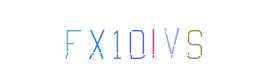1: (95, 0, 175, 80)
D: (97, 0, 177, 80)
F: (50, 0, 130, 80)
I: (104, 0, 184, 80)
S: (154, 0, 234, 80)
V: (113, 0, 193, 80)
X: (76, 0, 156, 80)
